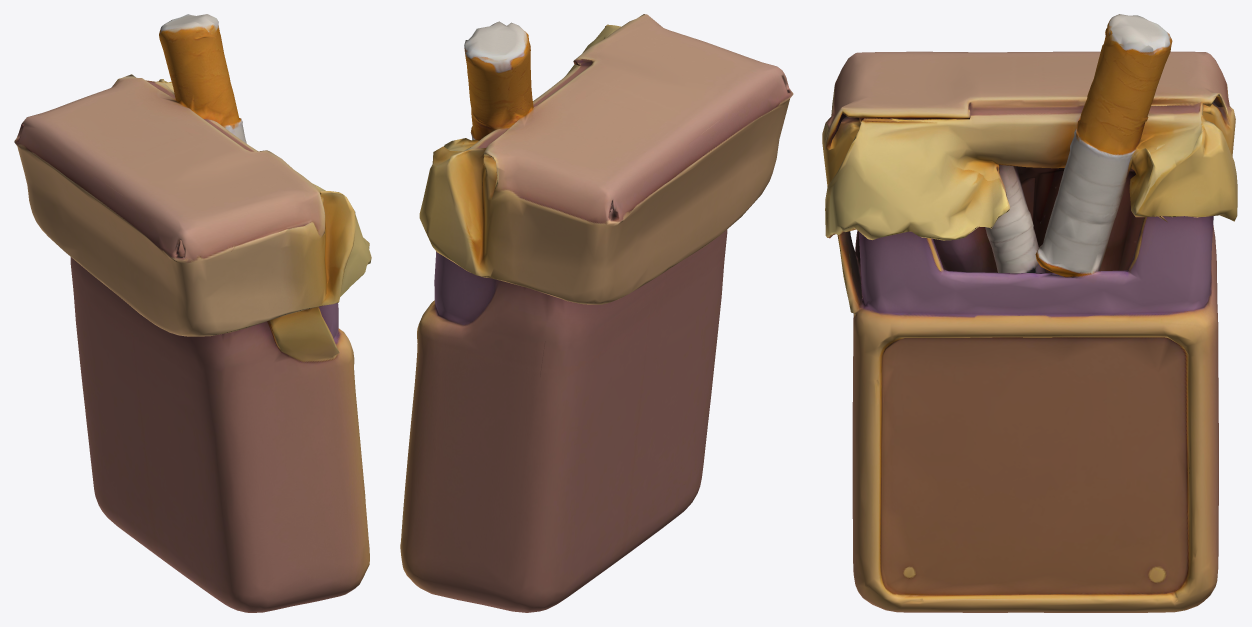
Rendered from lucky_cigarettes.glb.
3 views of the same model, side by side, from view 1: azimuth 30°, elevation 25°; view 2: azimuth 150°, elevation 25°; view 3: azimuth 270°, elevation 25° (orthographic). The views are drawn at different scales.
Visible parts, largest first — view 1: tripo_node_7b8cc3d1-948c-47d0-b316-a984955b7229; view 2: tripo_node_7b8cc3d1-948c-47d0-b316-a984955b7229; view 3: tripo_node_7b8cc3d1-948c-47d0-b316-a984955b7229.
Part boxes in pixels (x1,y1,x2,y2): tripo_node_7b8cc3d1-948c-47d0-b316-a984955b7229: (14, 14, 371, 612); tripo_node_7b8cc3d1-948c-47d0-b316-a984955b7229: (400, 14, 793, 612); tripo_node_7b8cc3d1-948c-47d0-b316-a984955b7229: (822, 14, 1237, 612).
Size of the model in its own units: 0.4153 by 0.9802 by 0.6444.
Materials: 1 (1 with a texture image).
